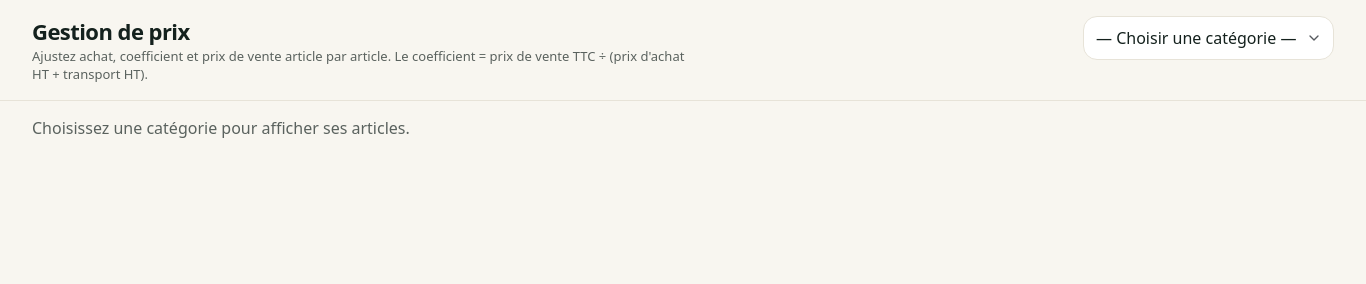
Scenario: Gestion de prix — le transport pèse sur le prix de vente TTC › le prix de vente TTC calculé est arrondi au dixième supérieur (2,87 → 2,9)
Expected: the text "Choisissez une catégorie pour afficher ses articles." is shown, [32,117,410,139]
Step 1. Select "Bouquets" in the dropdown → {"x": 1208, "y": 38}, box [1083,16,1334,60]
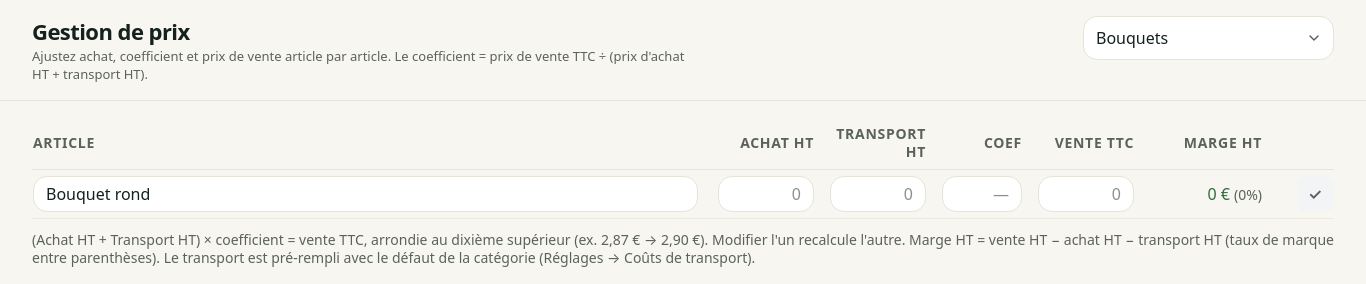
Expected: the field showing "Bouquet rond" is shown, [33,176,698,212]
Step 2. Type "2.87" into the 1st field with placeholder "0" → {"x": 766, "y": 194}, box [718,176,814,212]
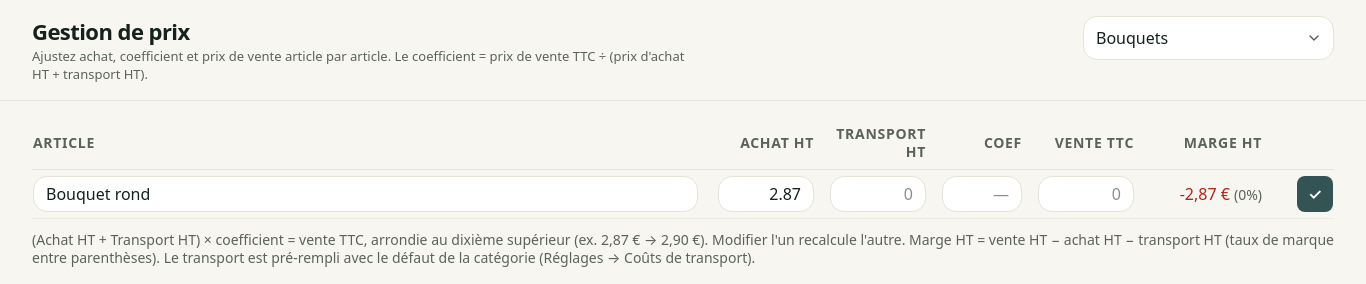
Step 3. Type "1" into the field with placeholder "—" → {"x": 982, "y": 194}, box [942,176,1022,212]
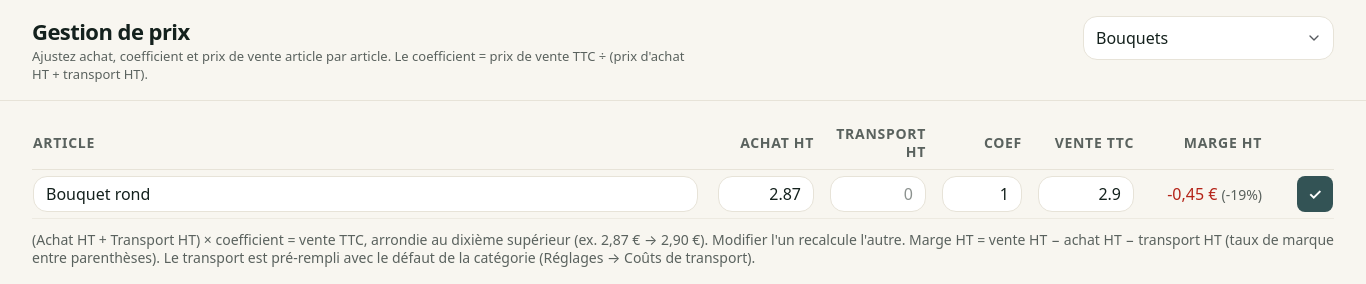
Expected: the 5th field holds "2.9", [1038,176,1134,212]
